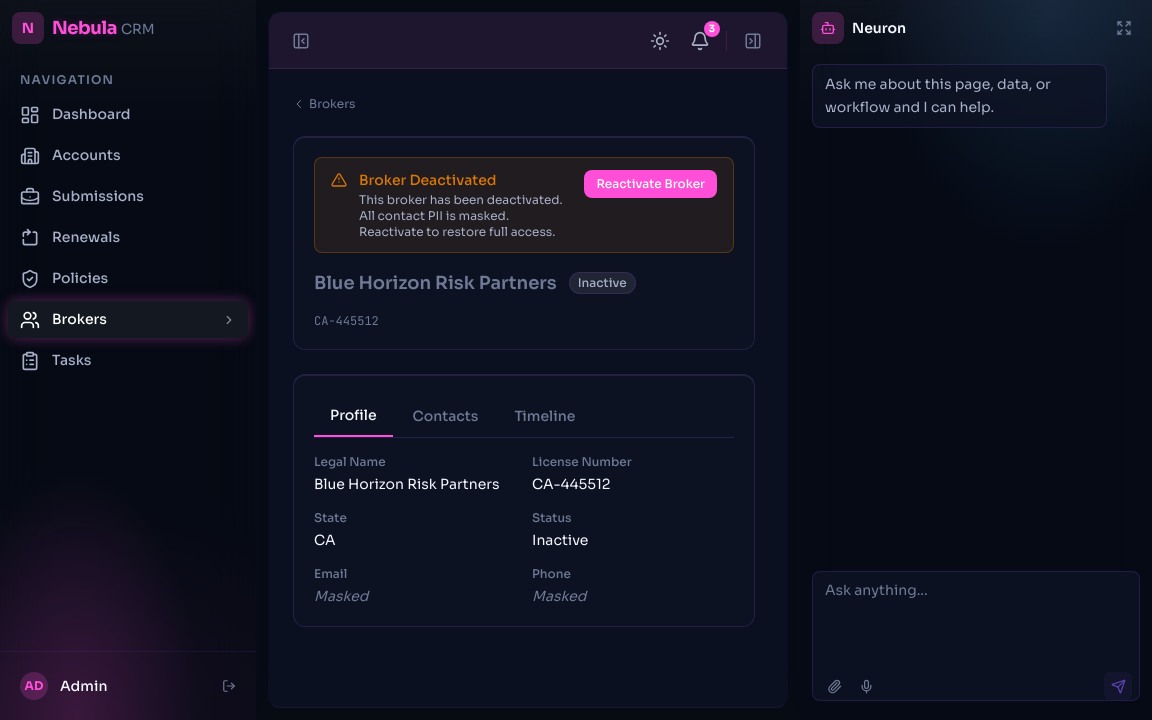
Test: BrokerDetailPage integration › paginates timeline events and supports broker reactivation
The width and height of the screenshot is (1152, 720).
expect the text "Broker Deactivated" is shown: met, box [359,171,497,189]
Click the button "Reactivate Broker" at (651, 184), box [584,170,717,198]
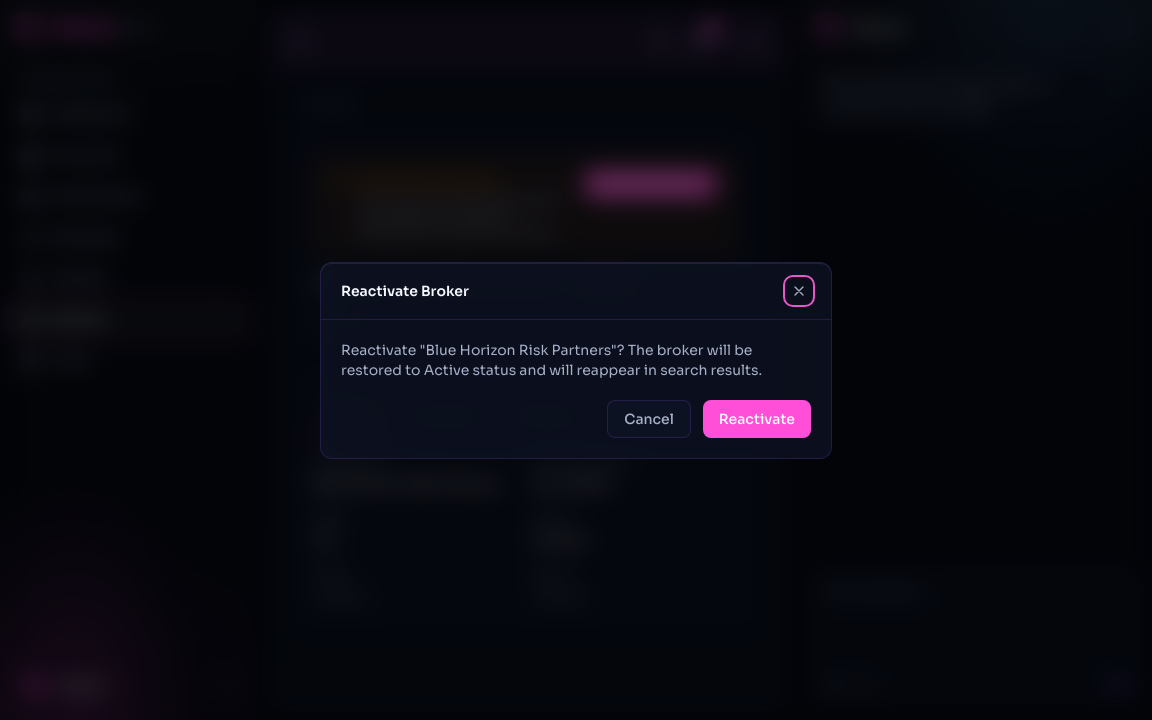
expect the dialog "Reactivate Broker" is shown: met, box [320,262,832,458]
Click the button "Reactivate" at (757, 418), box [703,400,811,438]
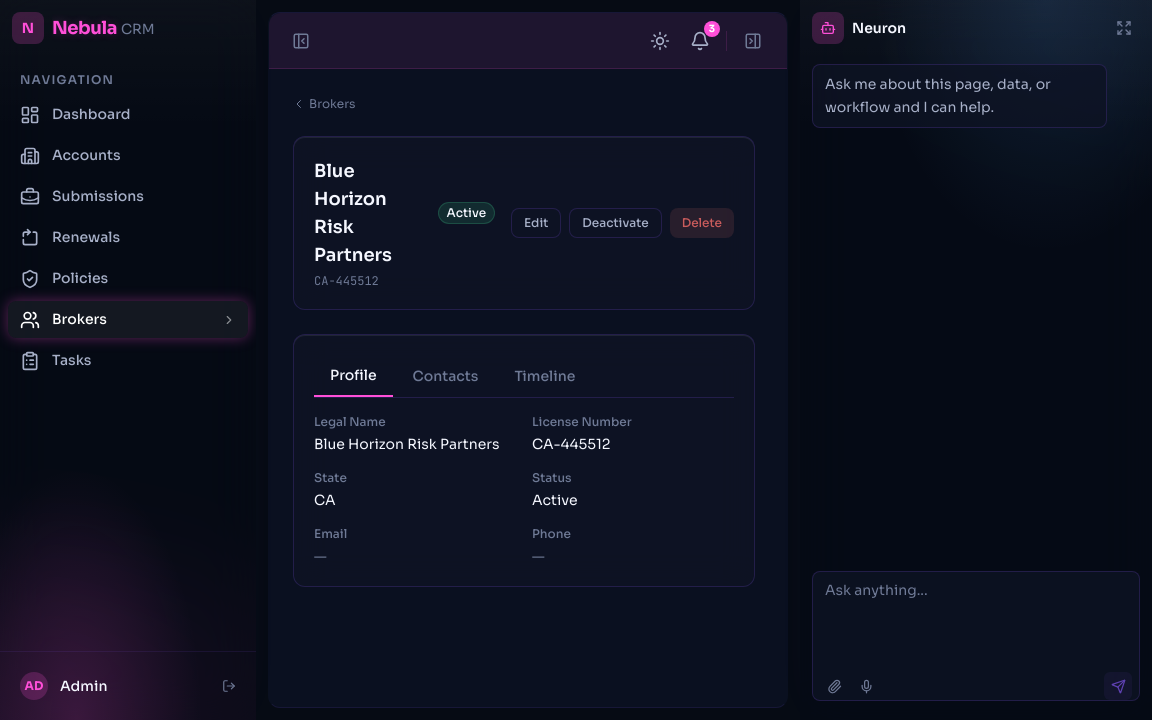
expect the text "Broker Deactivated" is not shown: met
Click the tab "Timeline" at (545, 376), box [498,355,591,397]
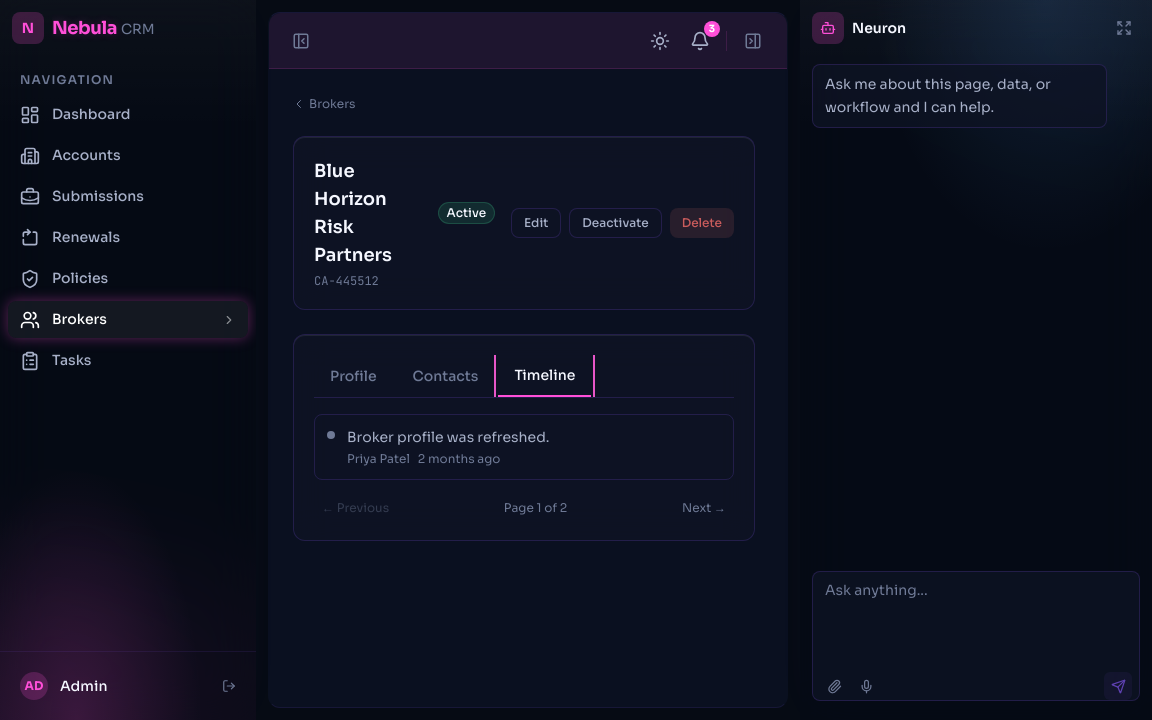
expect the text "Broker profile was refreshed." is shown: met, box [347,428,550,446]
Click the button "Next →" at (704, 508), box [674,496,734,520]
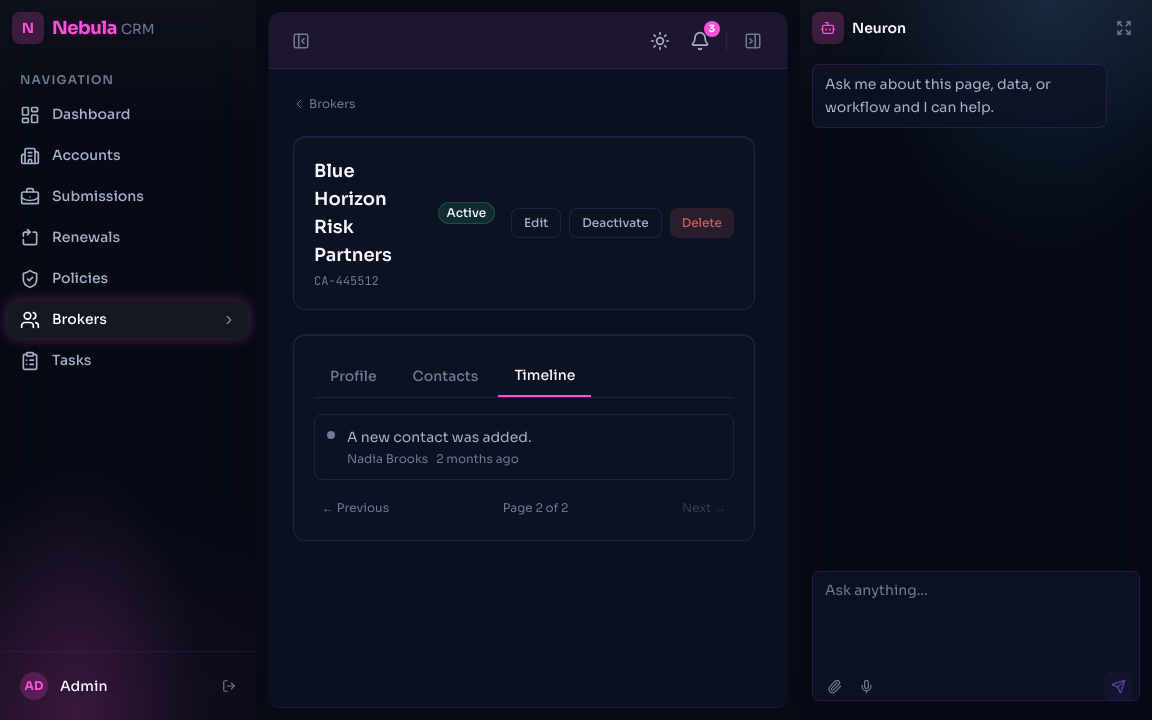
expect the text "A new contact was added." is shown: met, box [347,428,532,446]
expect the text "Page 2 of 2" is shown: met, box [503,500,568,516]
